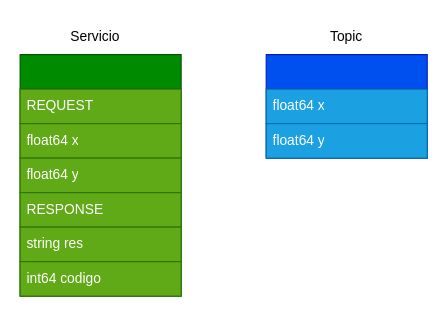
This 447x316 diagram has some shape labels left out. The box of each missing label's shape, as (x1, y1, x2, y2) in pixels:
IrMaquina: (19, 53, 181, 296)
LocationGo: (265, 53, 427, 158)
